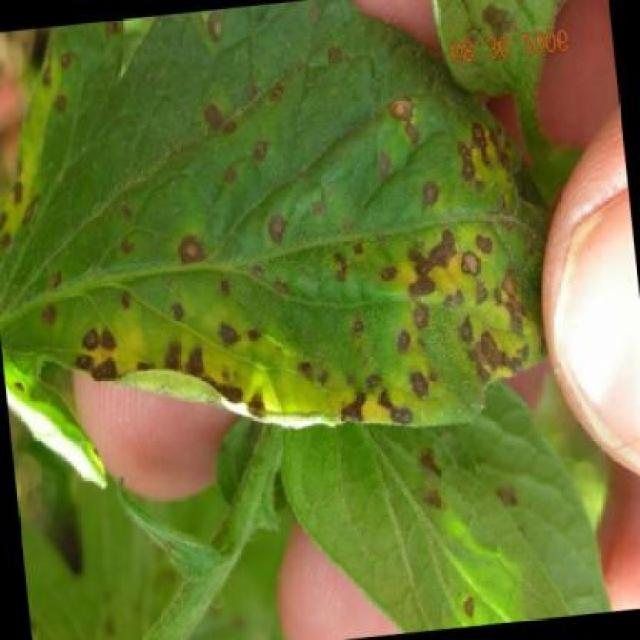Septoria leaf spot: (1, 1, 575, 506)
